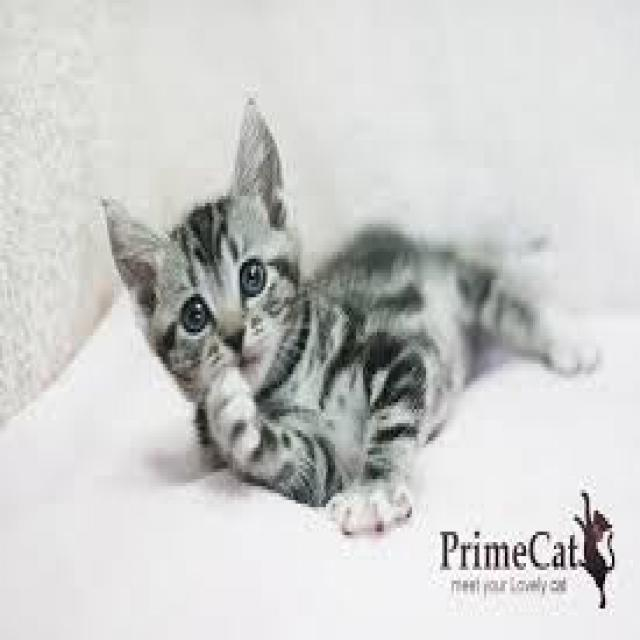cat-face: (103, 121, 360, 439)
